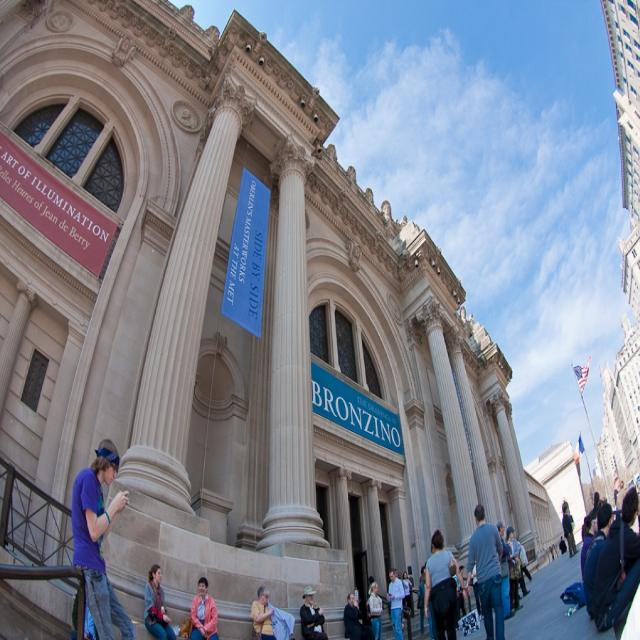body: (70, 434, 138, 639), (590, 481, 640, 636), (464, 499, 507, 639), (422, 528, 468, 639), (582, 502, 614, 622), (249, 584, 296, 640), (143, 563, 177, 640), (188, 576, 220, 640), (298, 581, 332, 639), (495, 518, 513, 621), (504, 525, 524, 616), (454, 561, 481, 624), (385, 564, 406, 639), (580, 507, 599, 582), (513, 527, 531, 602), (416, 561, 433, 640), (342, 592, 368, 640), (592, 474, 638, 501), (561, 499, 580, 560), (401, 570, 413, 610), (558, 534, 568, 555), (393, 566, 403, 582), (368, 576, 375, 586)
